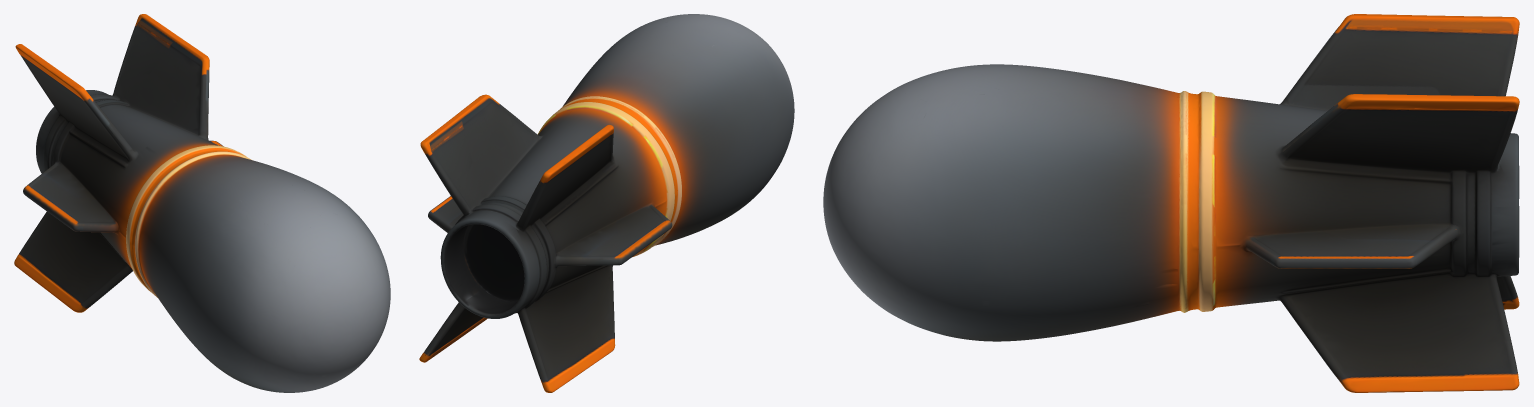
The model's file is 迫击弹.glb.
The picture shows the model from 3 angles, left to right: view 1: azimuth 30°, elevation 25°; view 2: azimuth 150°, elevation 25°; view 3: azimuth 270°, elevation 25°; orthographic projection. The views are drawn at different scales.
Parts seen in each view (by area): view 1: node_0; view 2: node_0; view 3: node_0.
Boxes of the visible parts, bbox=[...] form: node_0: bbox=[14, 14, 390, 392]; node_0: bbox=[419, 14, 794, 392]; node_0: bbox=[823, 14, 1519, 392].
Bounding box in the file's own units: 0.4507 × 0.4977 × 1.06.
1 material, 1 textured.
